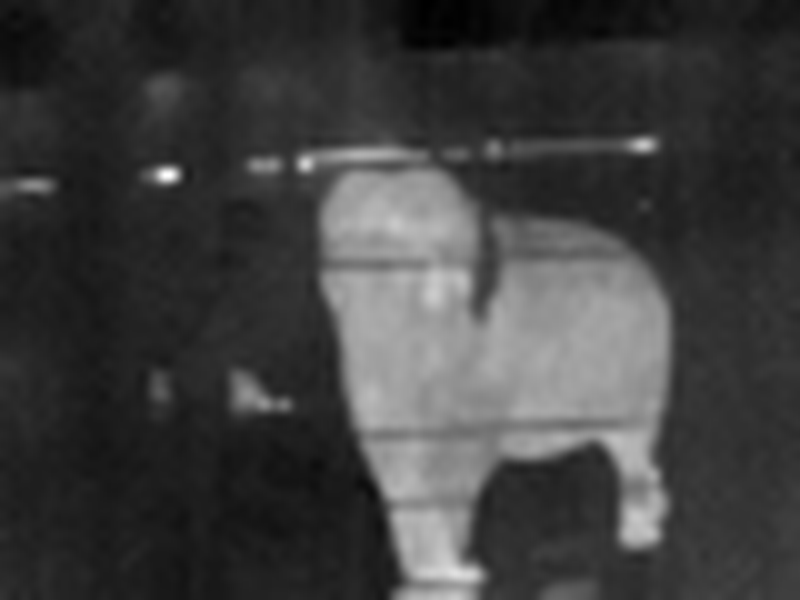elephant: (291, 152, 701, 591)
